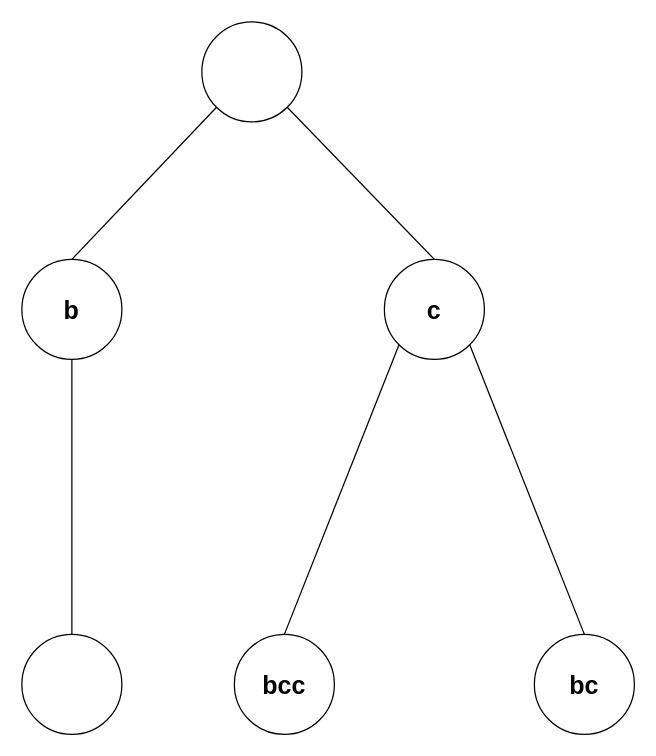
Image size: 656x756. Some labels were removed from this diagram. The shapes that lost their labels are listed below. From the top down, each one's centre as x and y in pixels, then its label:
At pixel 251 71: "t 0".
At pixel 71 683: "bccb".
